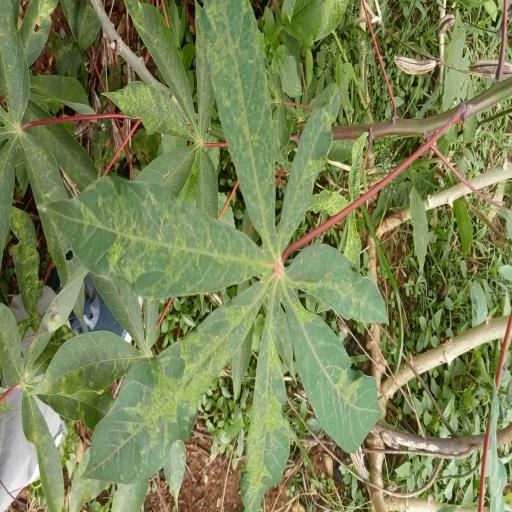Cassava_Mosaic: (40, 0, 390, 512)
